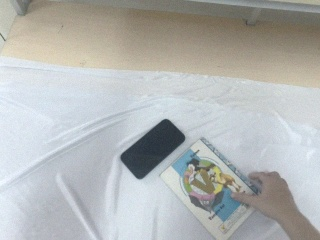book: (158, 136, 259, 240)
phone: (120, 118, 186, 181)
